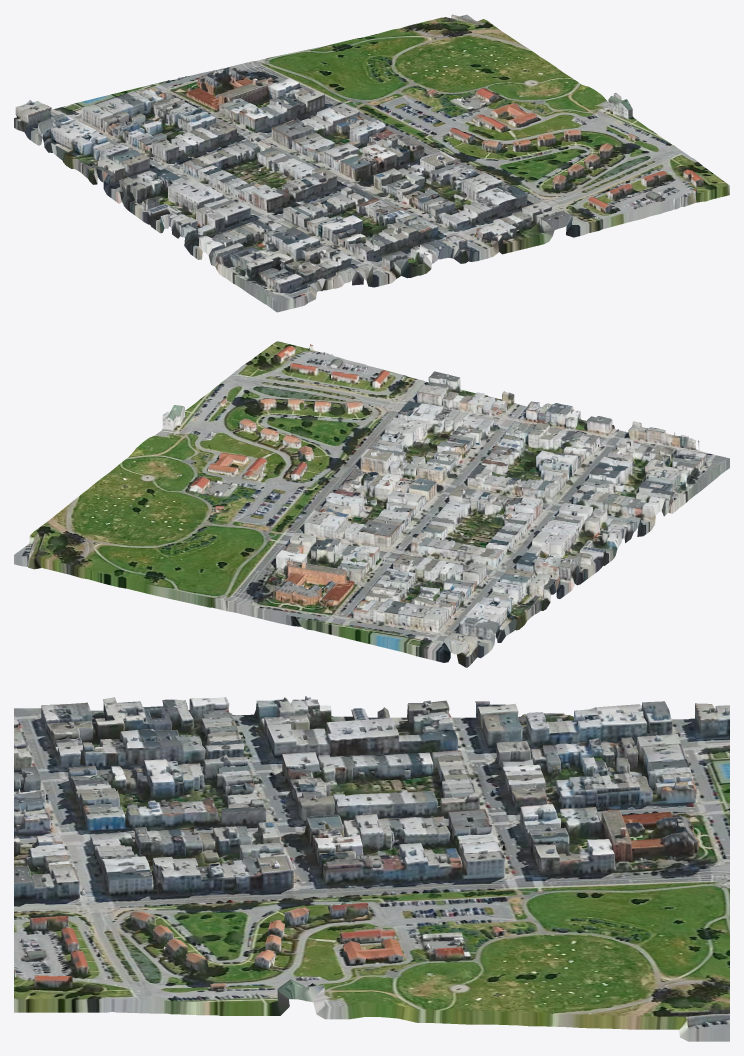
The model's file is z16-10480-25324-h0-yup-uvflip-v3-world.glb.
3 views of the same model, one above another, from view 1: azimuth 30°, elevation 25°; view 2: azimuth 150°, elevation 25°; view 3: azimuth 270°, elevation 25° (orthographic). The views are drawn at different scales.
Bounding box in the file's own units: 483 × 42.88 × 485.
Materials: 1 (1 with a texture image).
